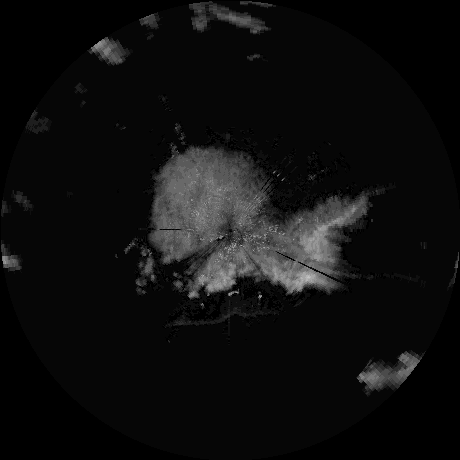frontgust: (172, 306, 263, 326)
